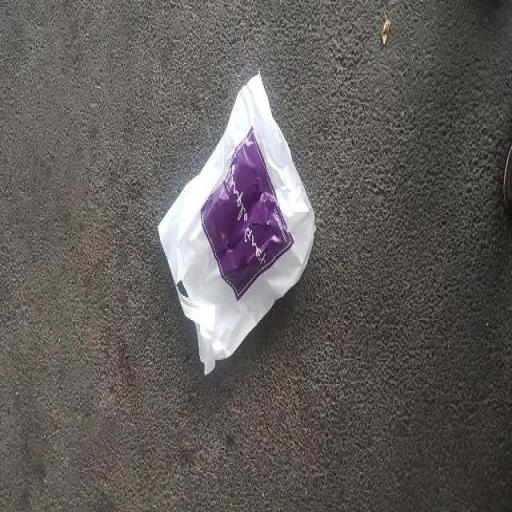plastic-bag: (156, 70, 317, 383)
